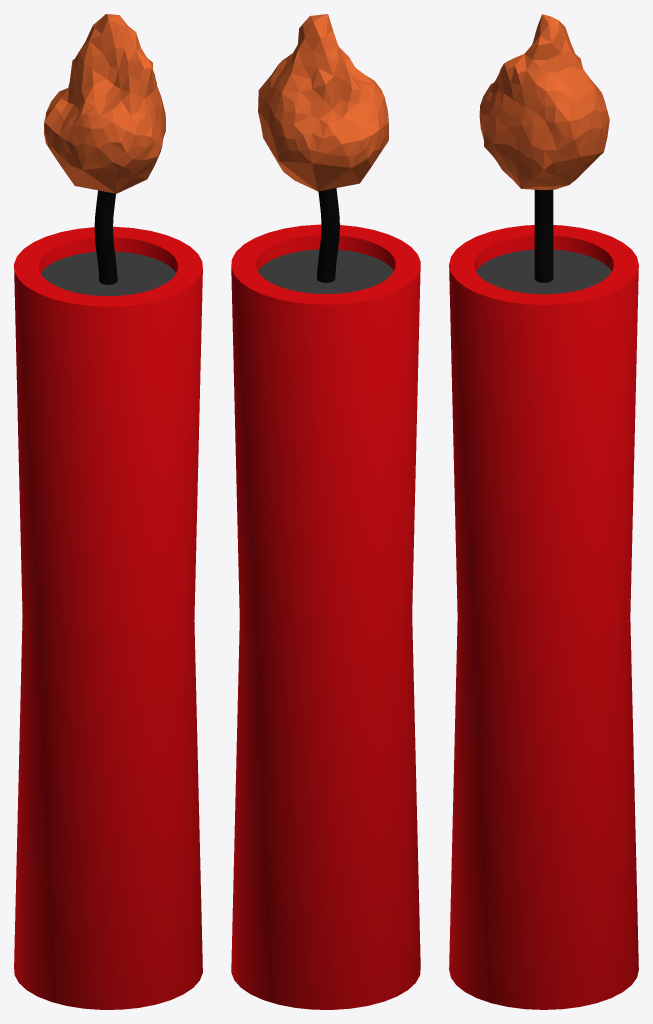
The model's file is Nitraat.fbx.
The picture shows the model from 3 angles, left to right: view 1: azimuth 30°, elevation 25°; view 2: azimuth 150°, elevation 25°; view 3: azimuth 270°, elevation 25°; orthographic projection.
Visible parts, largest first — view 1: NitraatShell, Flame, Lont; view 2: NitraatShell, Flame, Lont; view 3: NitraatShell, Flame, Lont.
Part boxes in pixels (x1,y1,x2,y2): NitraatShell: [14, 226, 202, 1009]; Flame: [44, 14, 165, 193]; Lont: [94, 190, 117, 284]; NitraatShell: [231, 224, 420, 1009]; Flame: [258, 14, 388, 191]; Lont: [317, 188, 339, 282]; NitraatShell: [449, 225, 638, 1009]; Flame: [479, 14, 609, 189]; Lont: [534, 189, 553, 282].
Bounding box in the file's own units: 98 × 544 × 98.
